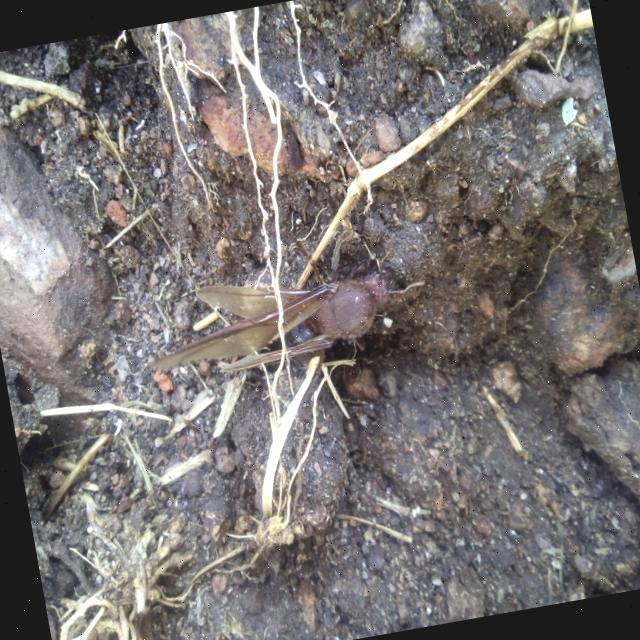Alive-Female-Alate: (126, 198, 444, 435)
